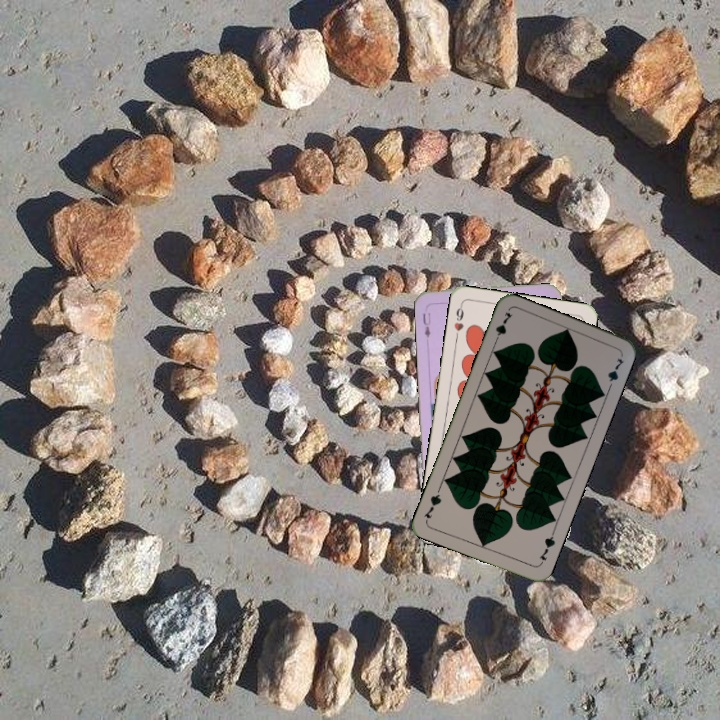EU: (419, 309, 433, 340)
G7: (490, 307, 515, 347), (535, 528, 558, 567)
H9: (450, 300, 466, 341)
